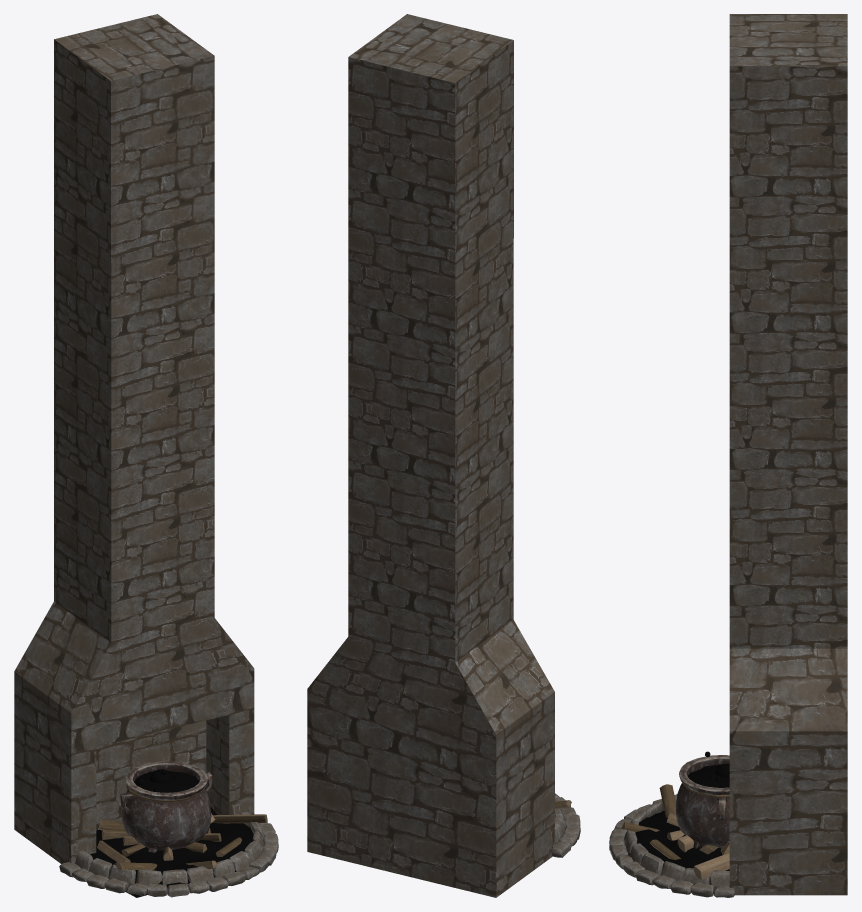
Rendered from SM_Fireplace_00.fbx.
The picture shows the model from 3 angles, left to right: view 1: azimuth 30°, elevation 25°; view 2: azimuth 150°, elevation 25°; view 3: azimuth 270°, elevation 25°; orthographic projection. The views are drawn at different scales.
Visible parts, largest first — view 1: polySurface3388; view 2: polySurface3388; view 3: polySurface3388.
Part boxes in pixels (x1,y1,x2,y2): polySurface3388: (14,14,278,897); polySurface3388: (307,14,580,897); polySurface3388: (609,14,847,897).
Bounding box in the file's own units: 297 × 1103 × 294.
8 materials, 5 textured.
